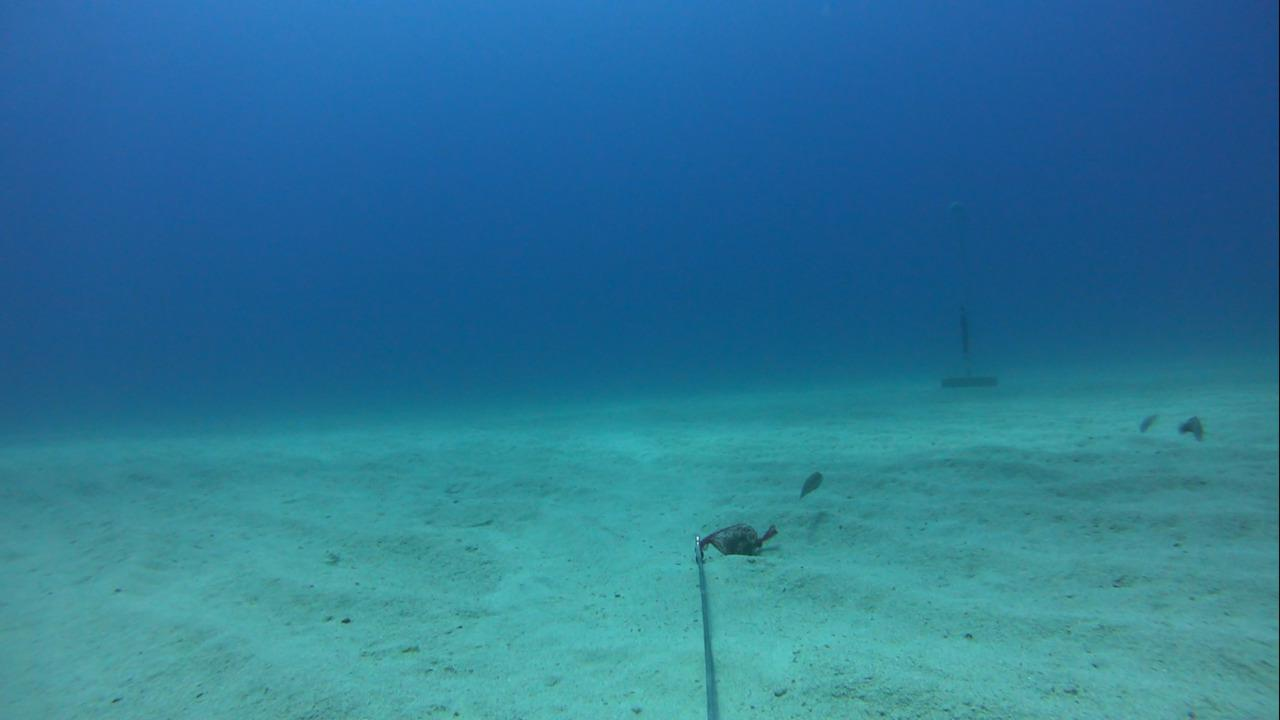raor: (1172, 403, 1211, 451), (791, 460, 830, 502), (1133, 403, 1160, 437)
